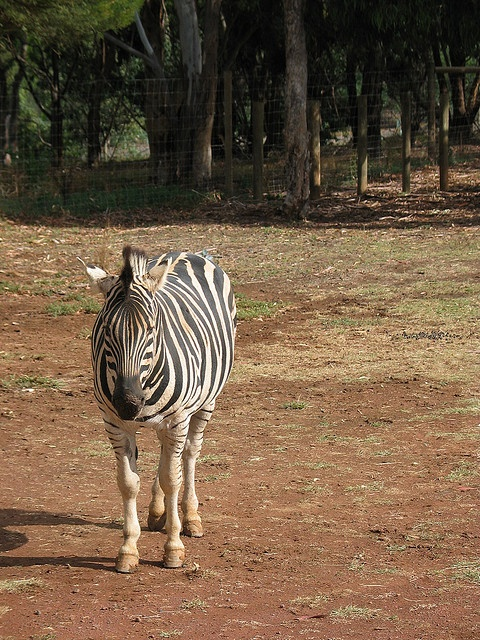zebra: (74, 248, 236, 572)
